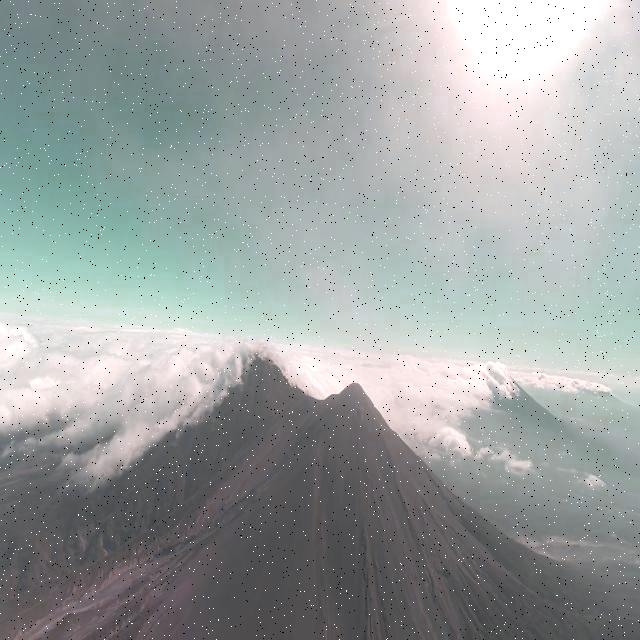Summit: (326, 378, 375, 416)
